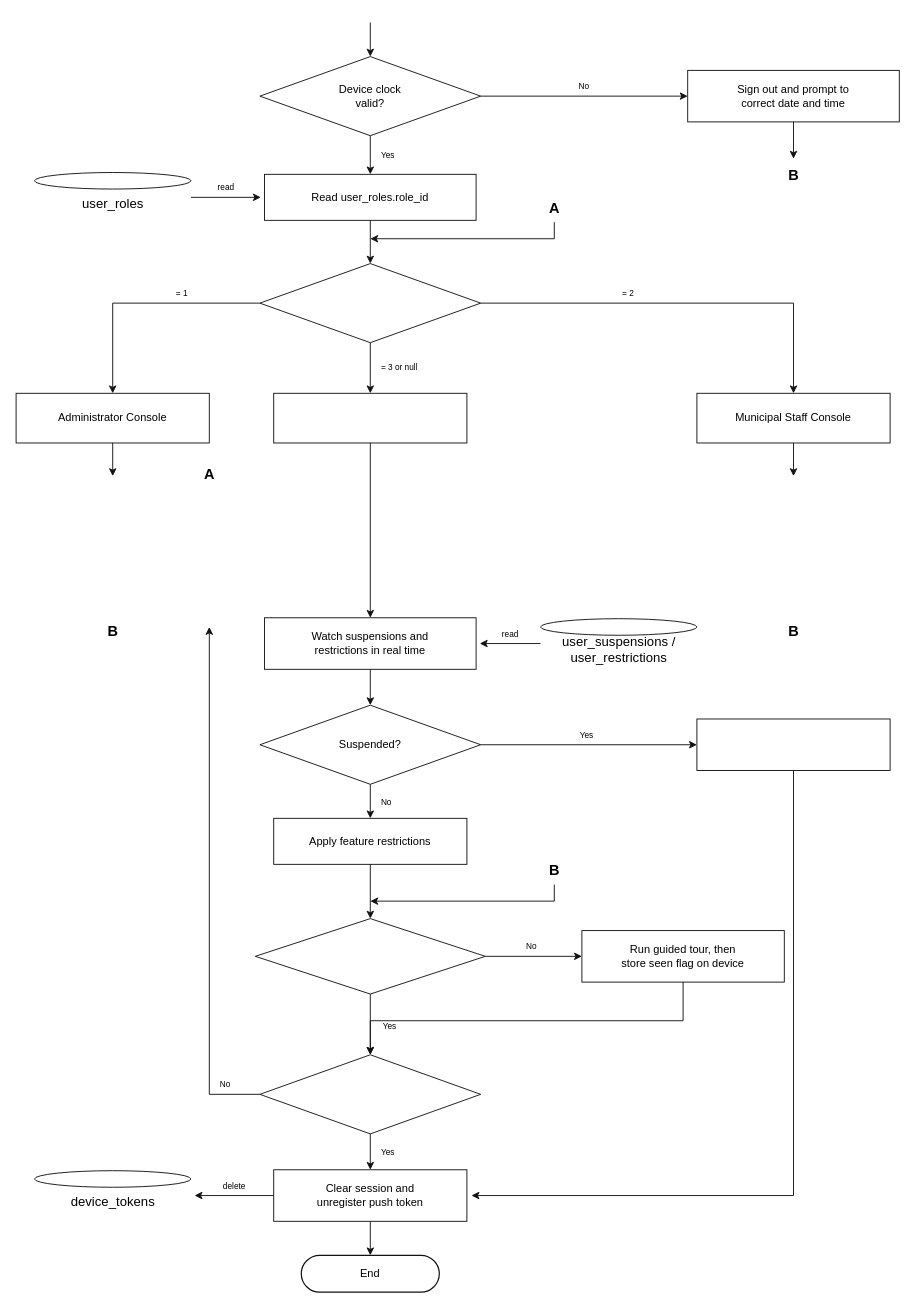
Some shapes in this 915 by 1309 pixel diagram are drawn without their labels. Here are the shapes that lost their labels. From the top down, the centre of each, then its label:
the point at 370,303: role_id?
the point at 370,417: Citizen Shell
the point at 793,744: Show blocking notice and sign out
the point at 369,956: Quick Action tour seen on this device?
the point at 370,1094: Log out?
